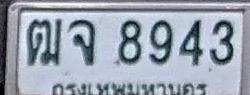3: (209, 19, 234, 65)
4: (179, 19, 203, 66)
8: (117, 19, 141, 64)
9: (149, 19, 173, 65)
A08: (68, 19, 95, 65)
A18: (26, 18, 62, 66)
